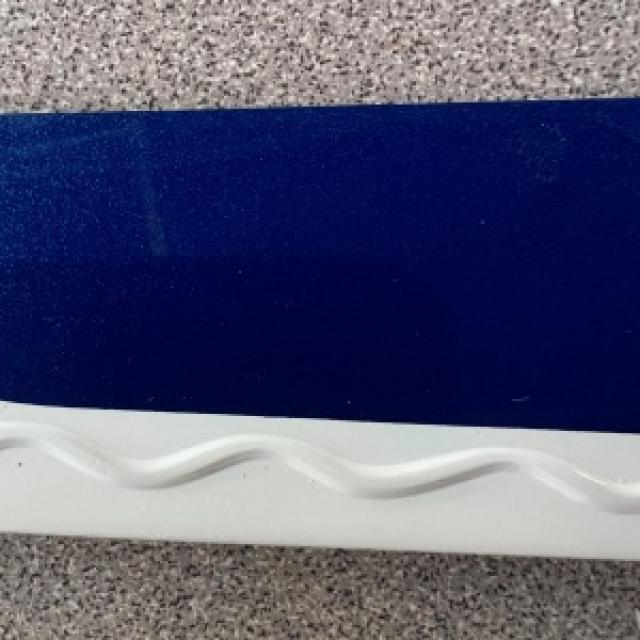healthy: (0, 96, 638, 557), (0, 401, 638, 557)
